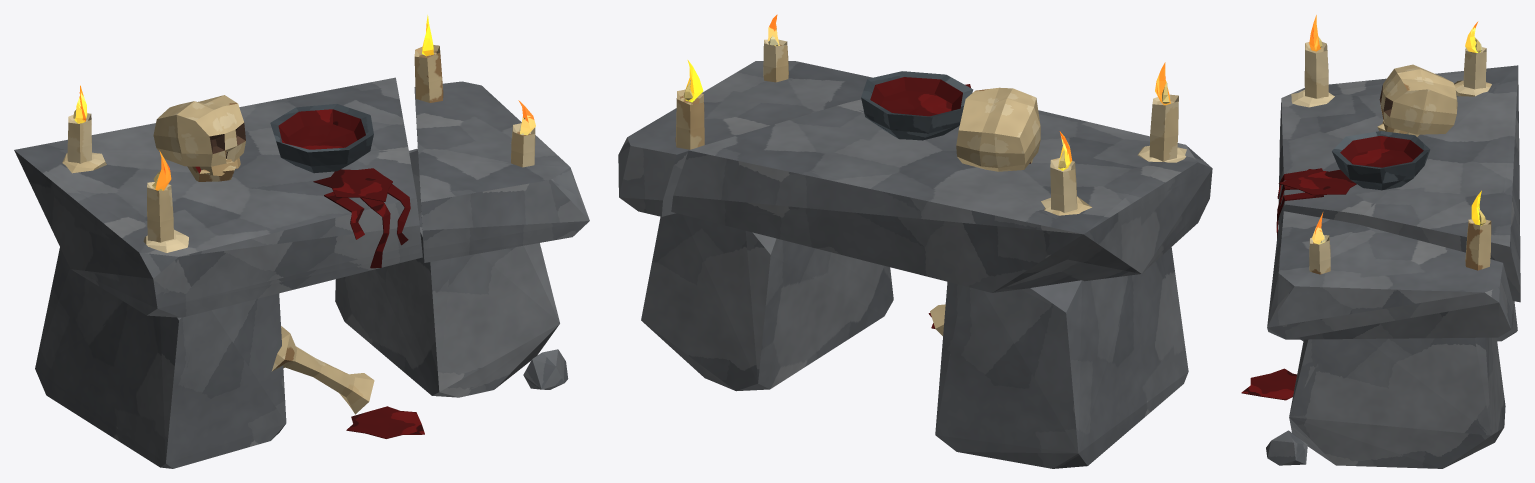
File: SM_RitualAltar.fbx
3 renders of one model, left to right at view 1: azimuth 30°, elevation 25°; view 2: azimuth 150°, elevation 25°; view 3: azimuth 270°, elevation 25°, orthographic. The views are drawn at different scales.
Visible parts, largest first — view 1: SM_RitualAltar, SM_RitualAltar_Flame; view 2: SM_RitualAltar, SM_RitualAltar_Flame; view 3: SM_RitualAltar, SM_RitualAltar_Flame.
Boxes of the visible parts, x1,y1,x2,y2 form: SM_RitualAltar: [14, 45, 589, 468]; SM_RitualAltar_Flame: [73, 15, 535, 190]; SM_RitualAltar: [618, 39, 1212, 468]; SM_RitualAltar_Flame: [683, 14, 1170, 170]; SM_RitualAltar: [1241, 41, 1520, 468]; SM_RitualAltar_Flame: [1309, 15, 1485, 244].
Bounding box in the file's own units: 1.52 × 1.01 × 0.9045.
